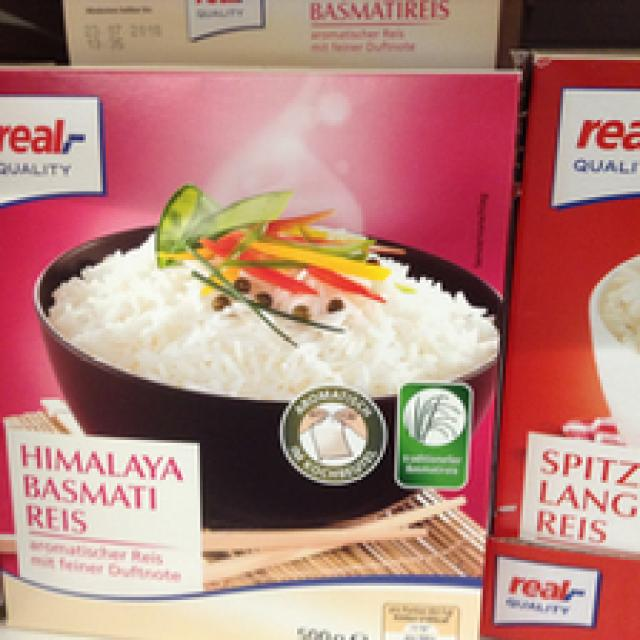groceries: (0, 60, 523, 634), (492, 40, 637, 549)
